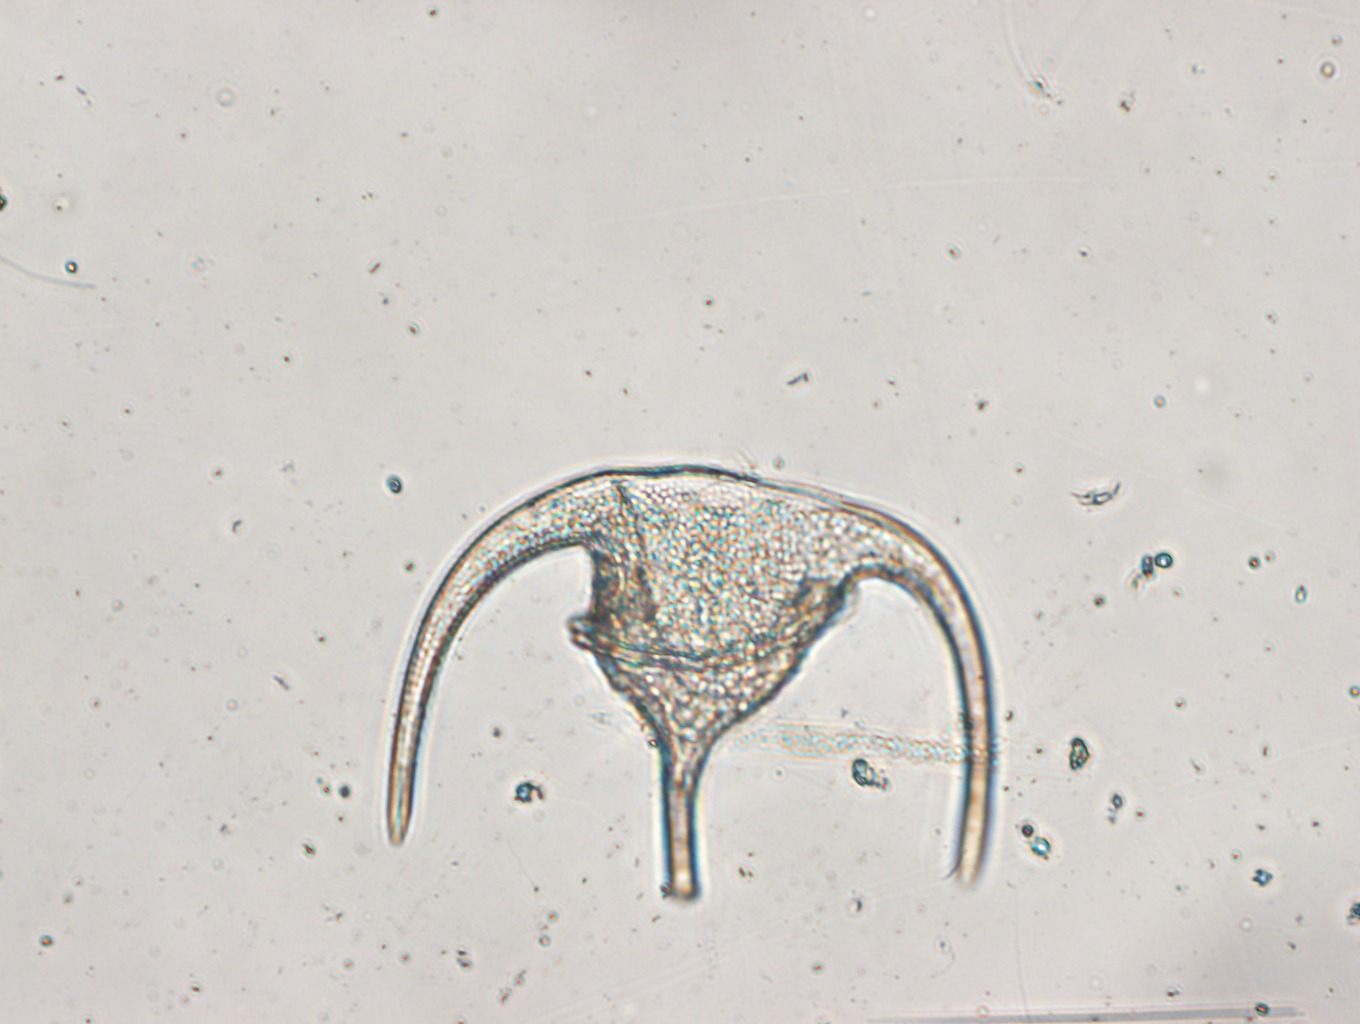ceratium tripos: (374, 453, 1008, 902)
